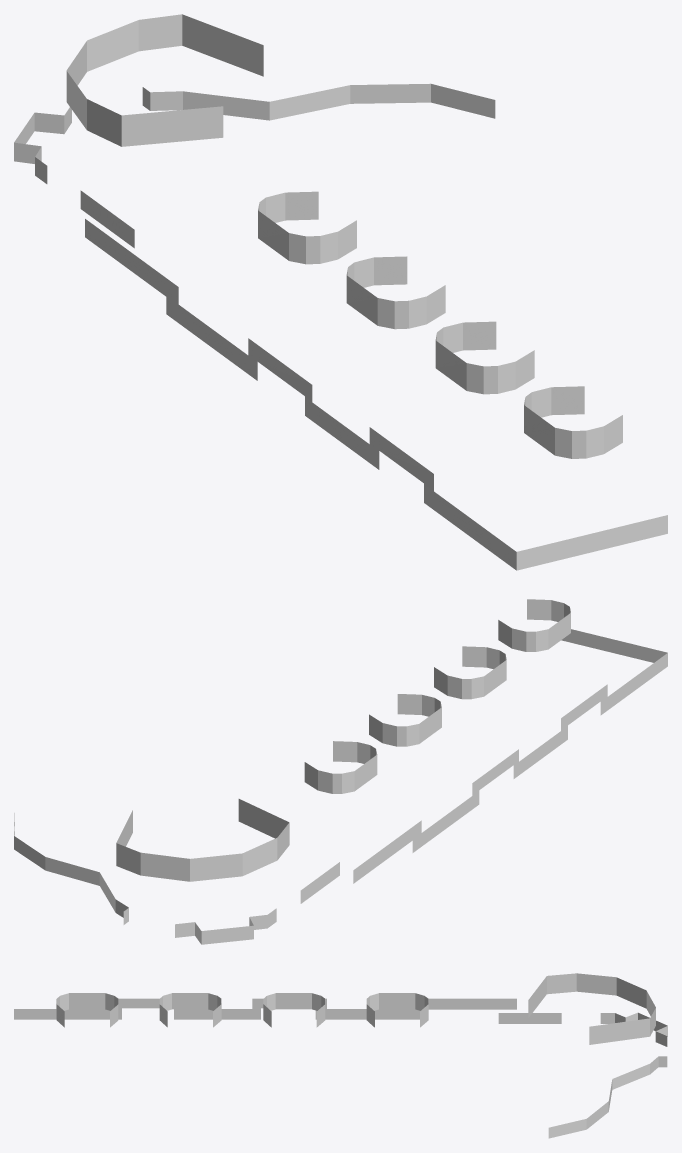
File: vegstadneon.obj
3 views of the same model, one above another, from view 1: azimuth 30°, elevation 25°; view 2: azimuth 150°, elevation 25°; view 3: azimuth 270°, elevation 25° (orthographic). The views are drawn at different scales.
Visible parts, largest first — view 1: vegstadneon; view 2: vegstadneon; view 3: vegstadneon.
Boxes of the visible parts, x1,y1,x2,y2 form: vegstadneon: (14,14,667,570); vegstadneon: (14,599,667,944); vegstadneon: (14,973,667,1138).
Bounding box in the file's own units: 80.29 × 18.52 × 178.
Materials: 1 (1 with a texture image).
